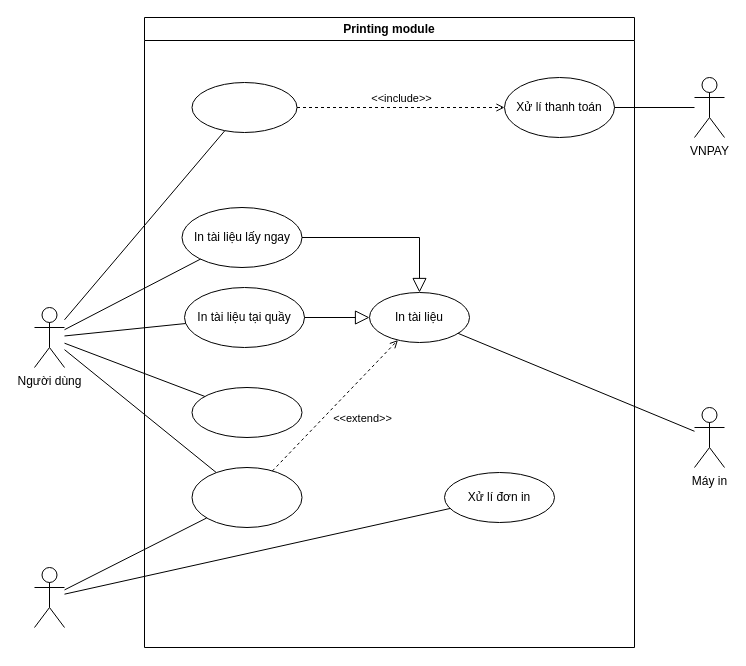
The diagram is 746 pixels wide and 666 high, and some of its shapes have lost their labels. Each missing label, with the centre of its shape:
Mua trang in: pixel 244 107
Nhân viên: pixel 49 597
Phản hồi hệ thống: pixel 246 497
Xem lịch sử in ấn: pixel 246 412
